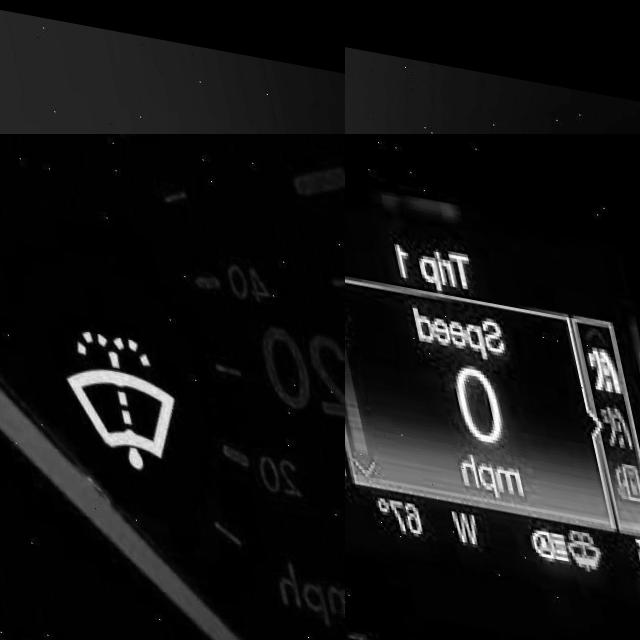Washer Fluid: (43, 313, 176, 462), (544, 508, 589, 558)
